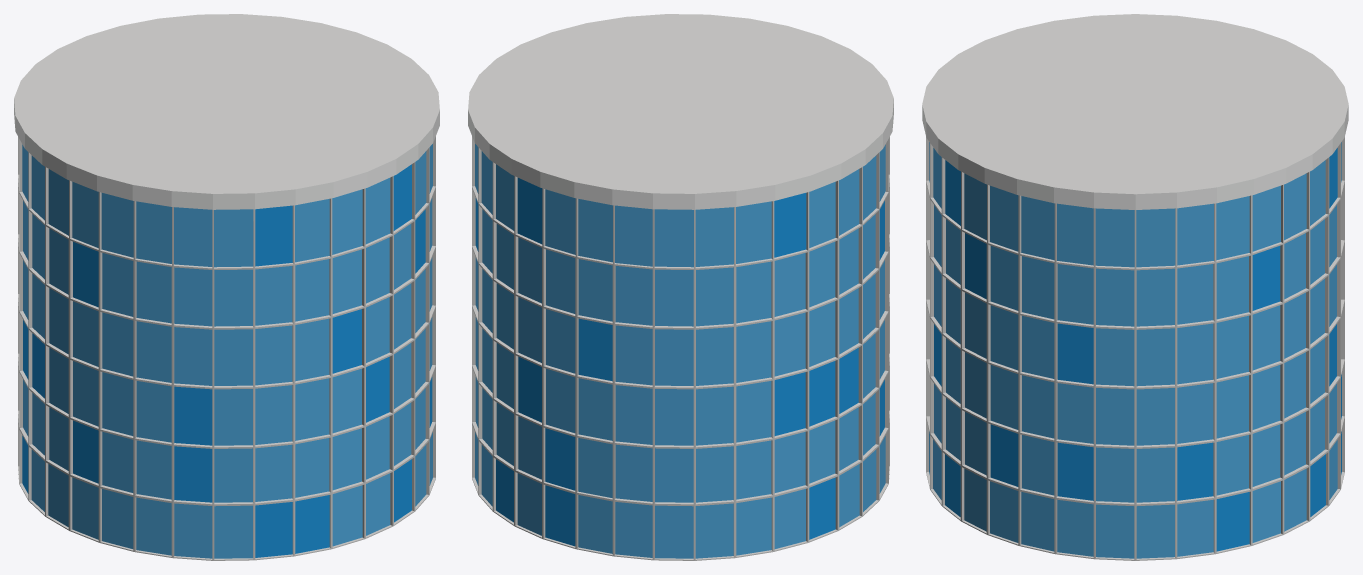
The model's file is building_1x1_0_f.glb.
3 views of the same model, side by side, from view 1: azimuth 30°, elevation 25°; view 2: azimuth 150°, elevation 25°; view 3: azimuth 270°, elevation 25° (orthographic).
Parts seen in each view (by area): view 1: FirstFloor.001; view 2: FirstFloor.001; view 3: FirstFloor.001.
Part boxes in pixels (<box>): FirstFloor.001: <box>14,14,439,560</box>; FirstFloor.001: <box>468,14,893,560</box>; FirstFloor.001: <box>922,14,1348,560</box>.
Size of the model in its own units: 1.68 by 1.6 by 1.68.
